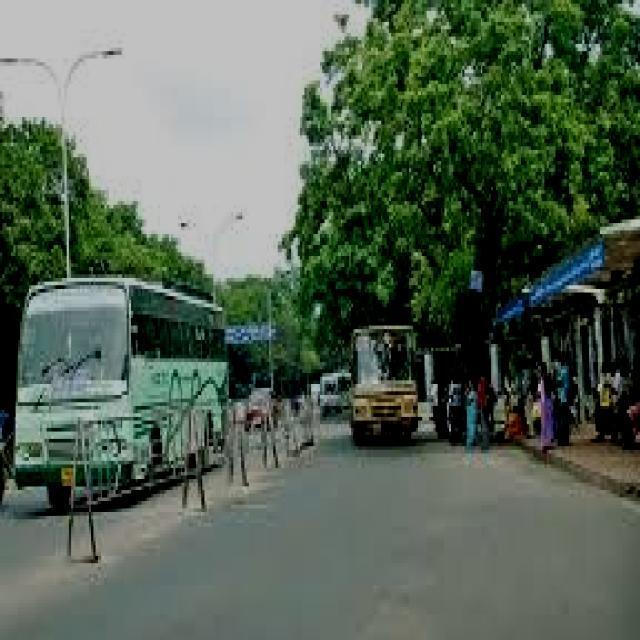Bus: (7, 253, 255, 497), (330, 312, 438, 459)
